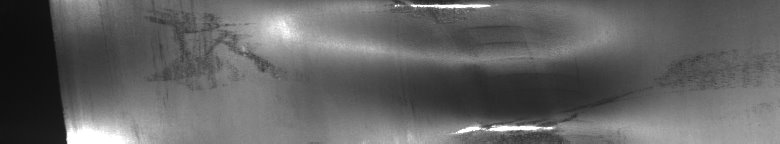ke: (395, 4, 577, 136)
